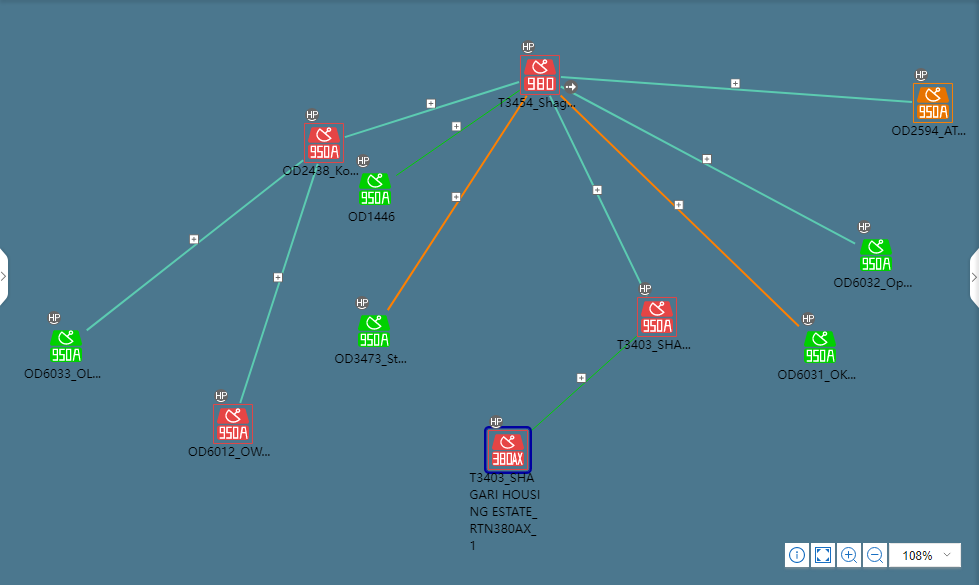Link_Blue: (571, 88, 854, 244), (83, 161, 297, 337), (236, 161, 318, 403), (548, 94, 641, 288), (568, 75, 909, 103), (346, 81, 511, 138)
Link_Green: (382, 94, 525, 311), (395, 88, 522, 176), (529, 338, 632, 435)
Link_Orange: (382, 94, 525, 311)
RTN_Green: (860, 240, 895, 276), (358, 314, 393, 349), (358, 173, 393, 208), (805, 332, 840, 367), (52, 332, 81, 367)
RTN_Orange: (915, 88, 948, 123)
RTN_Red: (211, 406, 252, 447), (486, 436, 528, 471), (309, 124, 344, 159), (639, 302, 673, 337), (523, 57, 557, 92)
